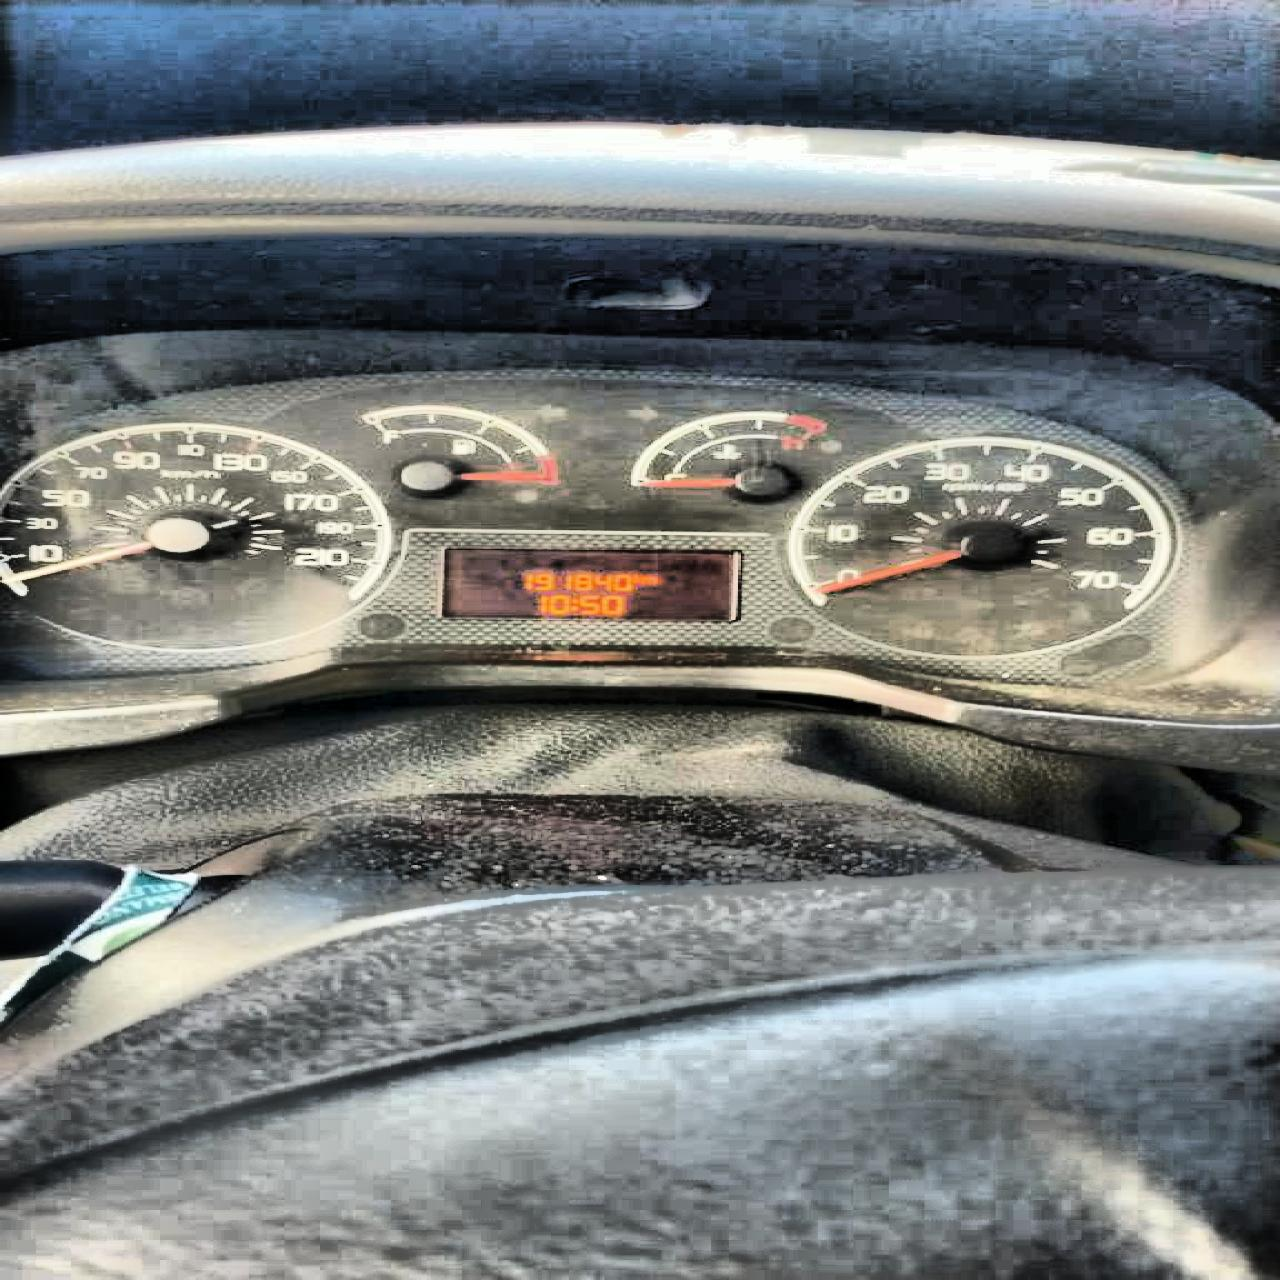0: (598, 595, 622, 614), (547, 593, 568, 613), (611, 574, 631, 590)
1: (522, 572, 531, 588), (538, 595, 546, 613), (561, 573, 571, 588)
4: (591, 573, 611, 588)
5: (578, 593, 600, 613)
8: (571, 572, 591, 590)
9: (531, 572, 551, 590)
X: (640, 576, 658, 584), (568, 598, 578, 611), (631, 572, 640, 584)
odometer: (434, 545, 737, 621)
